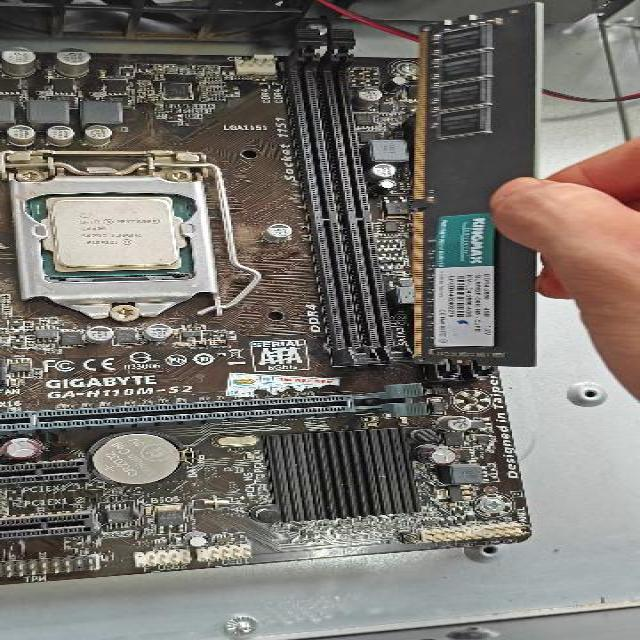CPU: (43, 194, 194, 276)
Mainboard: (0, 0, 549, 590)
RAM: (396, 1, 552, 373)
